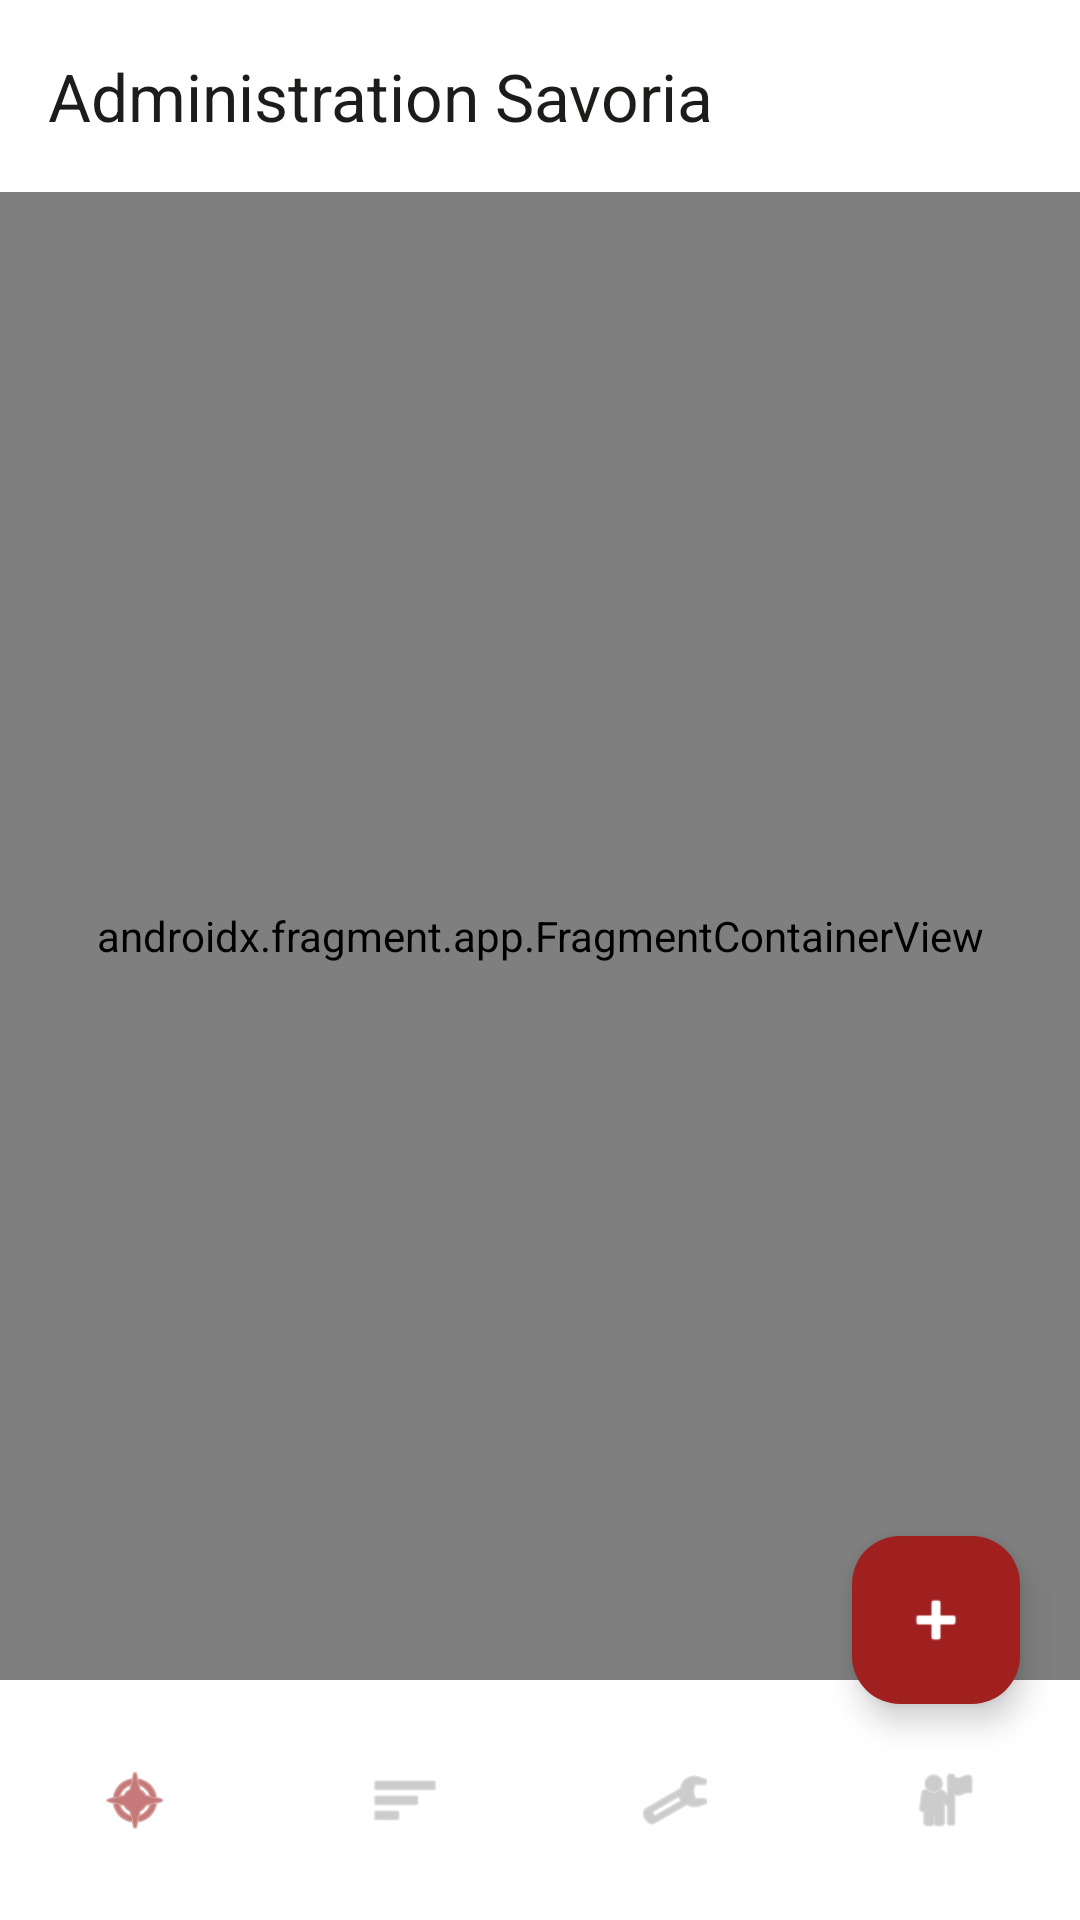

Screen size 1080*1920. Icon name, then its center in pixels as (x=x, y=y):
Ajouter un Plat: (x=936, y=1620)
